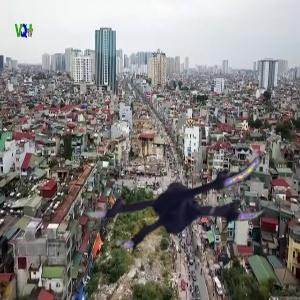drone: (89, 100, 270, 281)
